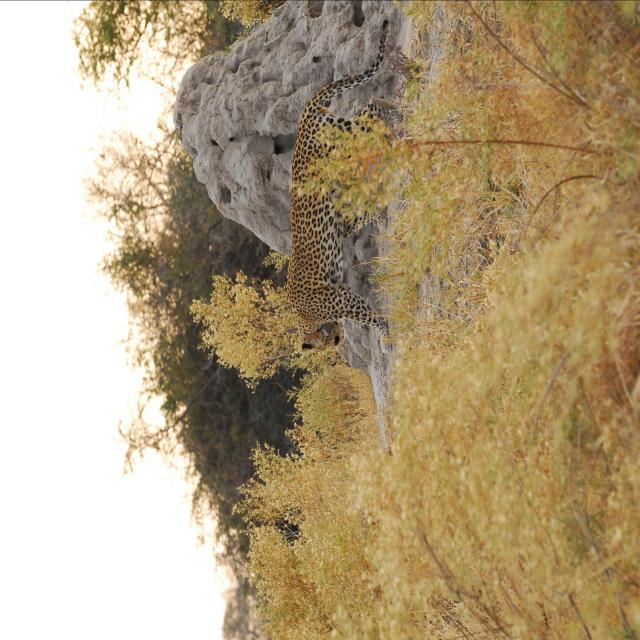Leopard: (249, 13, 440, 357)
